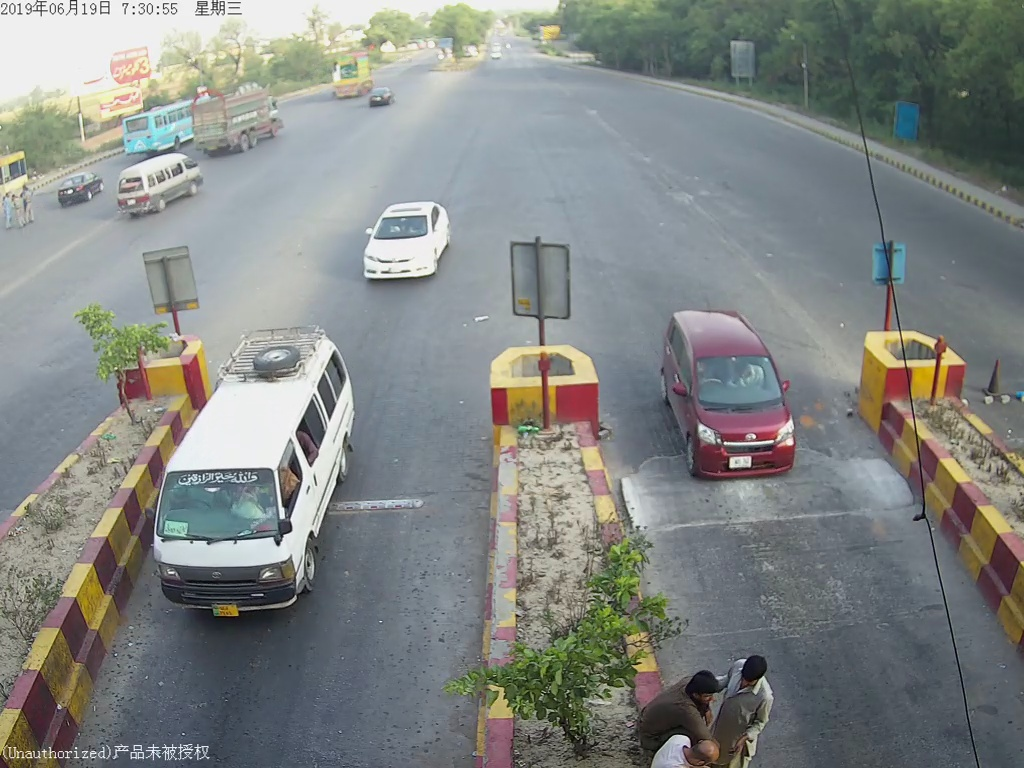Cat-1: (646, 283, 807, 493), (344, 200, 463, 288)
Cat-2: (143, 327, 365, 632)
